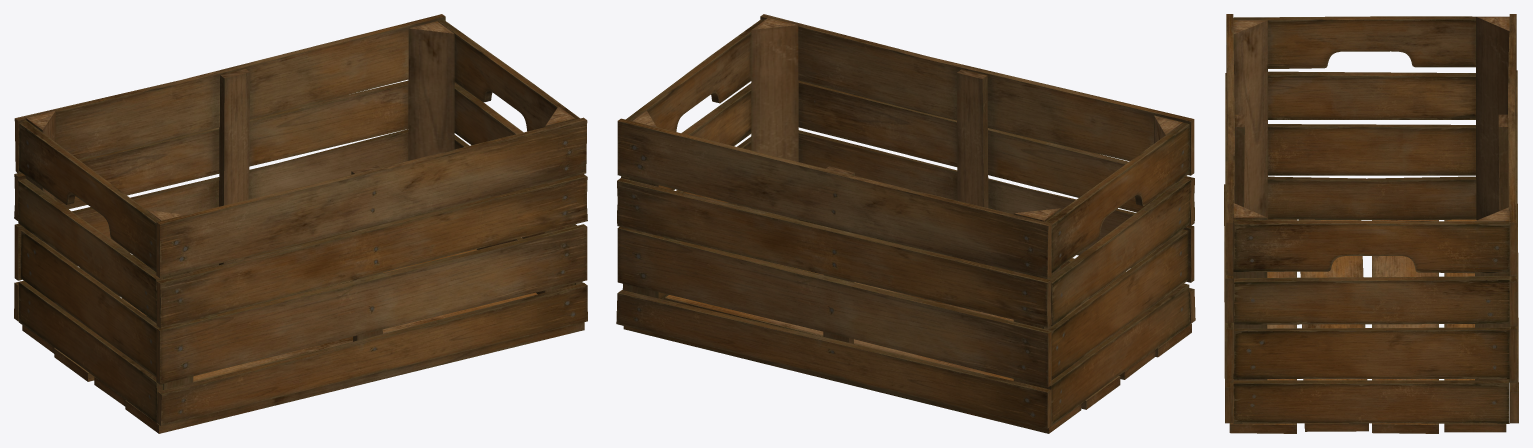
The model's file is wooden_box_4.glb.
The picture shows the model from 3 angles, left to right: view 1: azimuth 30°, elevation 25°; view 2: azimuth 150°, elevation 25°; view 3: azimuth 270°, elevation 25°; orthographic projection.
Visible parts, largest first — view 1: 01_Material #17_0, 008_Material #17_0, Object004_Material #17_0, 07_Material #17_0, 05_Material #17_0, Object009_Material #17_0; view 2: 008_Material #17_0, 01_Material #17_0, Object004_Material #17_0, 07_Material #17_0, 05_Material #17_0, Object008_Material #17_0; view 3: Object004_Material #17_0, 07_Material #17_0, 05_Material #17_0, 008_Material #17_0, 01_Material #17_0, Object009_Material #17_0, Object008_Material #17_0.
Part boxes in pixels (x1,y1,x2,y2): 01_Material #17_0: (156,117,587,425); 008_Material #17_0: (14,14,445,321); Object004_Material #17_0: (18,19,582,423); 07_Material #17_0: (25,21,575,389); 05_Material #17_0: (22,249,584,433); Object009_Material #17_0: (219,68,250,265); 008_Material #17_0: (616,118,1051,428); 01_Material #17_0: (760,14,1195,323); Object004_Material #17_0: (621,19,1190,426); 07_Material #17_0: (629,17,1183,387); 05_Material #17_0: (623,267,1191,433); Object008_Material #17_0: (957,69,988,207); Object004_Material #17_0: (1233,16,1509,423); 07_Material #17_0: (1233,16,1509,410); 05_Material #17_0: (1229,219,1506,433); 008_Material #17_0: (1508,14,1518,423); 01_Material #17_0: (1224,14,1234,423); Object009_Material #17_0: (1498,114,1508,210); Object008_Material #17_0: (1233,114,1244,322).
Bounding box in the file's own units: 19.74 × 9.33 × 11.76.
1 material, 1 textured.
